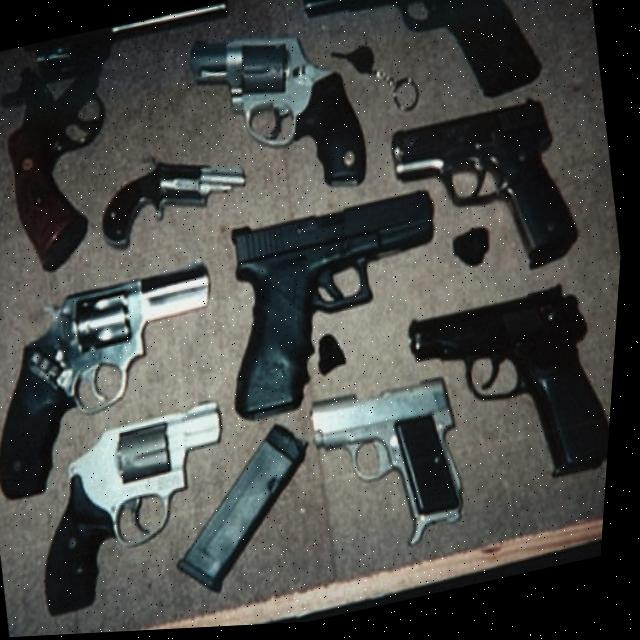pistol: (0, 0, 268, 284), (207, 190, 467, 431), (0, 256, 248, 508), (397, 278, 624, 519), (22, 396, 259, 622), (177, 5, 382, 227), (382, 96, 594, 305), (289, 0, 551, 140), (300, 372, 485, 570), (91, 141, 258, 253)
